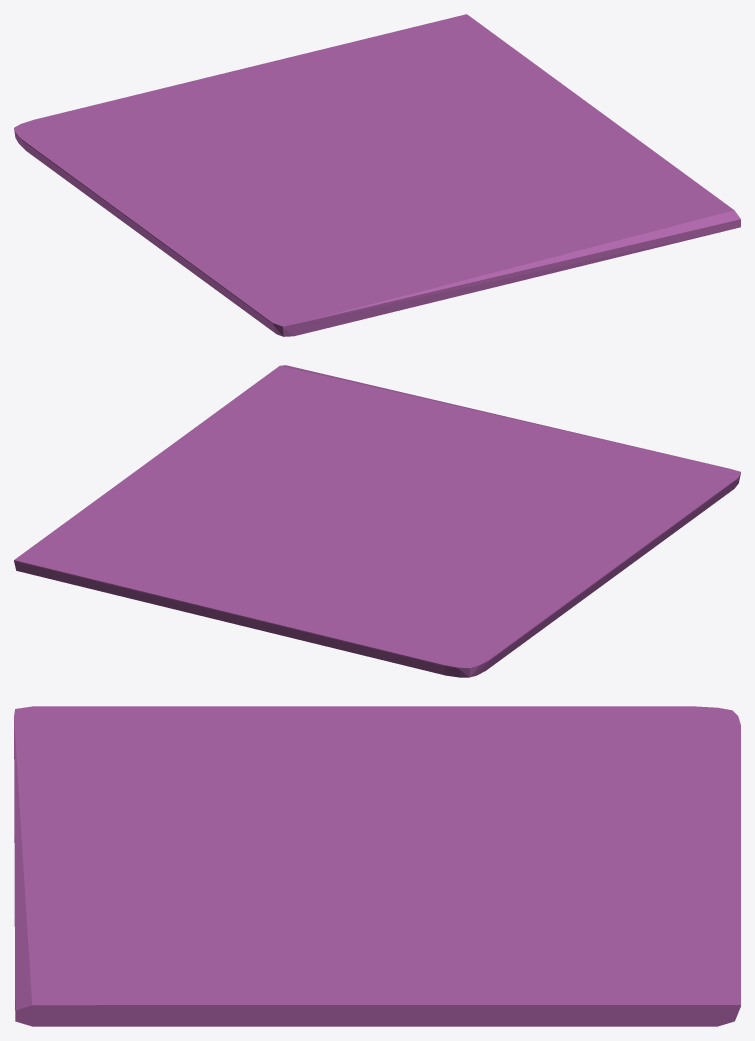
The model's file is left_hip_yaw_link_part_7.obj.
3 views of the same model, one above another, from view 1: azimuth 30°, elevation 25°; view 2: azimuth 150°, elevation 25°; view 3: azimuth 270°, elevation 25° (orthographic). The views are drawn at different scales.
Size of the model in its own units: 0.0393 by 0.00133 by 0.0405.
